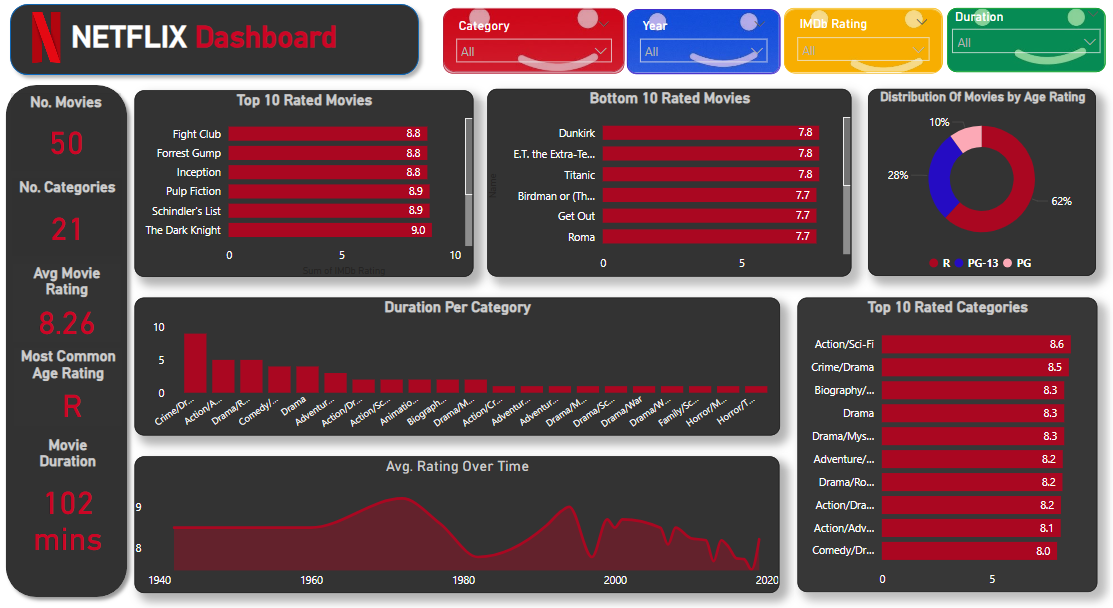

Layout of this report page (visuals, bound fields, positions):
{"tool":"powerbi","page":{"name":"Netflix Movies Analysis","canvas":[1280,720],"ordinal":0},"visuals":[{"type":"image","box":[1089.2,31.7,179.2,72.5],"z":0},{"type":"image","box":[905.3,32.7,179.3,72.7],"z":1000},{"type":"image","box":[518.7,31.3,205.7,73],"z":2000},{"type":"slicer","fields":{"Values":["Netflix Movies Data (Movies).Category"]},"box":[518.7,32.8,205.7,73],"z":3000},{"type":"image","box":[727.3,33.3,173.3,72.7],"z":4000},{"type":"shape","box":[12.9,110,155.7,598.6],"z":5000},{"type":"donutChart","title":"Distribution Of Movies by Age Rating","fields":{"Category":["Netflix Movies Data (Movies).Age Rating"],"Y":["CountNonNull(Netflix Movies Data (Movies).Name)"]},"box":[1000,123.8,258.8,212.5],"z":6000},{"type":"lineChart","title":"Avg. Rating Over Time","fields":{"Category":["Netflix Movies Data (Movies).Year"],"Y":["Avg(Netflix Movies Data (Movies).IMDb Rating)"]},"box":[168.8,540,731.2,155],"z":7000},{"type":"card","title":"No. Movies","fields":{"Values":["CountNonNull(Netflix Movies Data (Movies).Name)"]},"box":[29.1,128.2,124.5,88.2],"z":8000},{"type":"card","title":"No. Categories","fields":{"Values":["Count(Netflix Movies Data (Movies).Category)"]},"box":[30,225.5,124.5,88.2],"z":9000},{"type":"card","title":"Movie Duration","fields":{"Values":["Min(Netflix Movies Data (Movies).Duration)"]},"box":[31.1,516.7,122.2,147.8],"z":10000},{"type":"slicer","fields":{"Values":["Netflix Movies Data (Movies).Year"]},"box":[726.7,32.7,174,73.3],"z":11000},{"type":"slicer","fields":{"Values":["Netflix Movies Data (Movies).IMDb Rating"]},"box":[905.3,32,179.3,72.7],"z":12000},{"type":"columnChart","title":"Duration Per Category","fields":{"Category":["Netflix Movies Data (Movies).Category"],"Y":["CountNonNull(Netflix Movies Data (Movies).Duration)"]},"box":[168.4,360.7,731.8,156.5],"z":13000},{"type":"card","title":"Most Common Age Rating","fields":{"Values":["Netflix Movies Data (Movies).MostCommonAgeRating"]},"box":[31.1,416.7,123.3,88.9],"z":14000},{"type":"card","title":"Avg Movie Rating","fields":{"Values":["Avg(Netflix Movies Data (Movies).IMDb Rating)"]},"box":[30,321.1,123.3,88.9],"z":15000},{"type":"clusteredBarChart","title":"Top 10 Rated Movies","fields":{"Category":["Netflix Movies Data (Movies).Name"],"Y":["Sum(Netflix Movies Data (Movies).IMDb Rating)"]},"box":[168.6,124.3,384.3,211.4],"z":16000},{"type":"clusteredBarChart","title":"Top 10 Rated Categories","fields":{"Category":["Netflix Movies Data (Movies).Category"],"Y":["Avg(Netflix Movies Data (Movies).IMDb Rating)"]},"box":[919.6,360.7,339.8,333.9],"z":17000},{"type":"clusteredBarChart","title":"Bottom 10 Rated Movies","fields":{"Category":["Netflix Movies Data (Movies).Name"],"Y":["Sum(Netflix Movies Data (Movies).IMDb Rating)"]},"box":[567.9,123.7,412.9,213.1],"z":18000},{"type":"shape","box":[17.9,17.9,481.4,98.4],"z":19000},{"type":"image","box":[12.8,24.4,111.7,80.6],"z":20000},{"type":"textbox","box":[92.4,40.2,426.3,52.2],"z":21000},{"type":"slicer","fields":{"Values":["Netflix Movies Data (Movies).Duration"]},"box":[1089.3,32,179.3,72.7],"z":22000}]}

Visuals, with their boxes in screenshot pixels (x1, y1, x2, y2), scaled from the page's 1280x720 canvas onto the 1113x608 screenshot:
image: x1=947 y1=27 x2=1103 y2=88
image: x1=787 y1=28 x2=943 y2=89
image: x1=451 y1=26 x2=630 y2=88
slicer - Netflix Movies Data (Movies).Category: x1=451 y1=28 x2=630 y2=89
image: x1=632 y1=28 x2=783 y2=90
shape: x1=11 y1=93 x2=147 y2=598
"Distribution Of Movies by Age Rating" donutChart: x1=870 y1=105 x2=1095 y2=284
"Avg. Rating Over Time" lineChart: x1=147 y1=456 x2=783 y2=587
"No. Movies" card: x1=25 y1=108 x2=134 y2=183
"No. Categories" card: x1=26 y1=190 x2=134 y2=265
"Movie Duration" card: x1=27 y1=436 x2=133 y2=561
slicer - Netflix Movies Data (Movies).Year: x1=632 y1=28 x2=783 y2=90
slicer - Netflix Movies Data (Movies).IMDb Rating: x1=787 y1=27 x2=943 y2=88
"Duration Per Category" columnChart: x1=146 y1=305 x2=783 y2=437
"Most Common Age Rating" card: x1=27 y1=352 x2=134 y2=427
"Avg Movie Rating" card: x1=26 y1=271 x2=133 y2=346
"Top 10 Rated Movies" clusteredBarChart: x1=147 y1=105 x2=481 y2=283
"Top 10 Rated Categories" clusteredBarChart: x1=800 y1=305 x2=1095 y2=587
"Bottom 10 Rated Movies" clusteredBarChart: x1=494 y1=104 x2=853 y2=284
shape: x1=16 y1=15 x2=434 y2=98
image: x1=11 y1=21 x2=108 y2=89
textbox: x1=80 y1=34 x2=451 y2=78
slicer - Netflix Movies Data (Movies).Duration: x1=947 y1=27 x2=1103 y2=88
